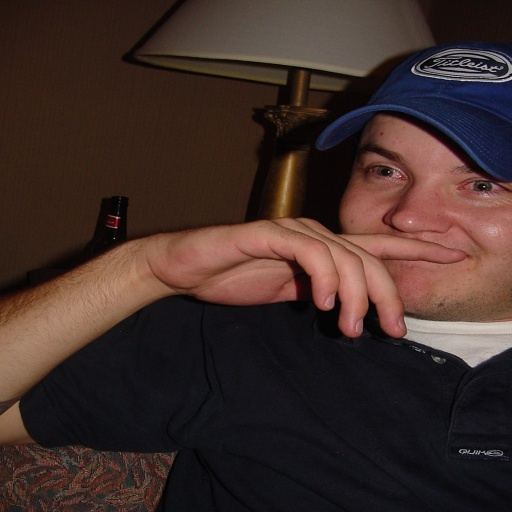hand: (87, 215, 432, 336)
